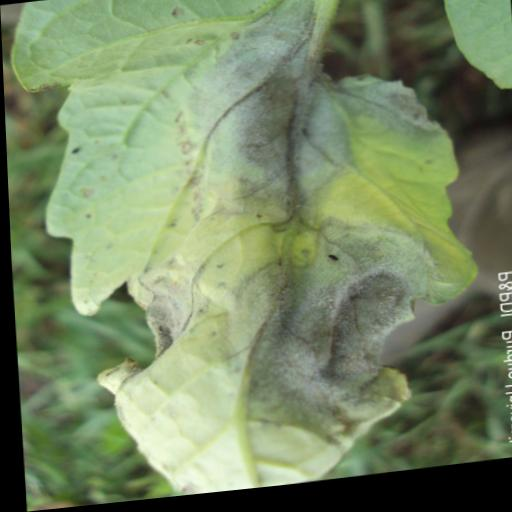Late Blight: (3, 0, 486, 512)
